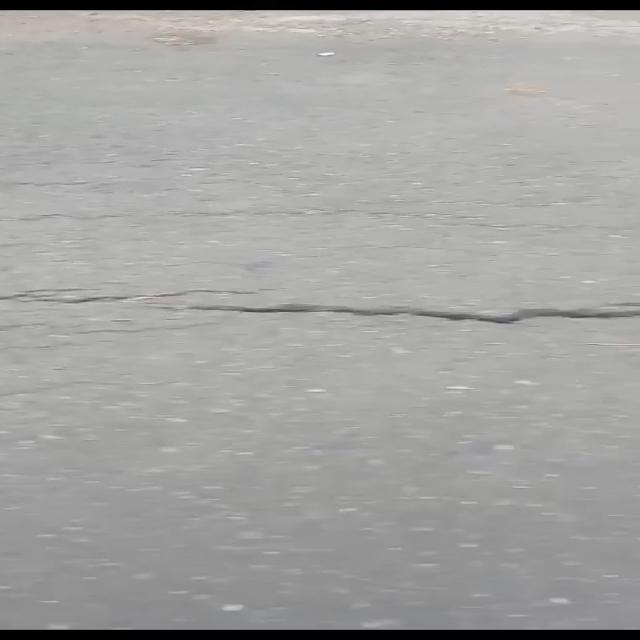Melintang: (0, 279, 640, 340)
